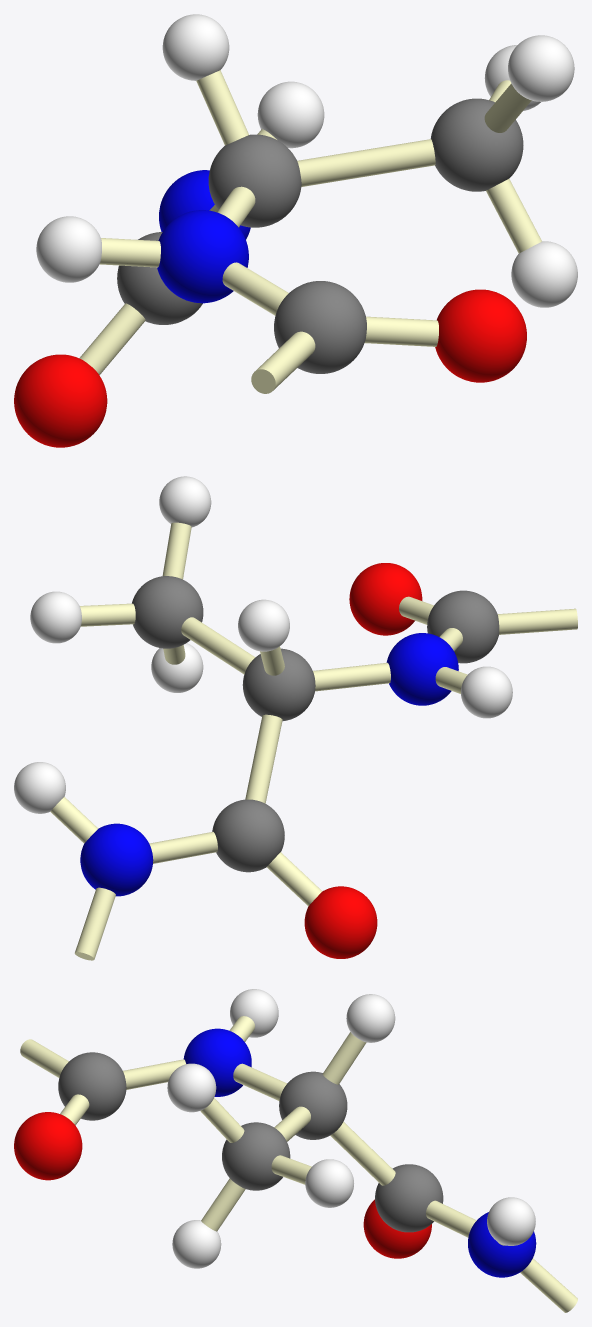
Rendered from conformation.gltf.
The picture shows the model from 3 angles, top to bottom: view 1: azimuth 30°, elevation 25°; view 2: azimuth 150°, elevation 25°; view 3: azimuth 270°, elevation 25°; orthographic projection. The views are drawn at different scales.
Parts seen in each view (by area): view 1: ?????????6, ?????????2, ?????????3, ?????????9, ?????????1, ?????????4, ?????????22, ?????????10, ?????????7, ?????????12, ?????????8, ?????????14 (+12 smaller); view 2: ?????????6, ?????????5, ?????????13, ?????????9, ?????????2, ?????????3, ?????????4, ?????????1, ?????????7, ?????????11, ?????????8, ?????????14 (+13 smaller); view 3: ?????????2, ?????????1, ?????????5, ?????????9, ?????????4, ?????????3, ?????????13, ?????????6, ?????????10, ?????????8, ?????????11, ?????????14 (+14 smaller).
Boxes of the visible parts, bbox=[...] form: ?????????6: bbox=[14, 354, 107, 447]; ?????????2: bbox=[435, 289, 526, 382]; ?????????3: bbox=[157, 210, 248, 303]; ?????????9: bbox=[430, 98, 523, 191]; ?????????1: bbox=[274, 281, 366, 373]; ?????????4: bbox=[208, 134, 301, 227]; ?????????22: bbox=[297, 139, 435, 186]; ?????????10: bbox=[508, 35, 574, 101]; ?????????7: bbox=[36, 216, 101, 282]; ?????????12: bbox=[511, 241, 577, 307]; ?????????8: bbox=[162, 14, 229, 80]; ?????????14: bbox=[257, 81, 324, 148]; ?????????6: bbox=[304, 886, 377, 958]; ?????????5: bbox=[212, 799, 284, 872]; ?????????13: bbox=[80, 823, 153, 896]; ?????????9: bbox=[132, 576, 203, 648]; ?????????2: bbox=[349, 563, 422, 635]; ?????????3: bbox=[386, 633, 458, 705]; ?????????4: bbox=[242, 648, 315, 721]; ?????????1: bbox=[427, 590, 499, 663]; ?????????7: bbox=[461, 666, 512, 718]; ?????????11: bbox=[30, 591, 81, 643]; ?????????8: bbox=[238, 599, 289, 651]; ?????????14: bbox=[14, 762, 65, 813]; ?????????2: bbox=[14, 1112, 82, 1180]; ?????????1: bbox=[58, 1052, 126, 1120]; ?????????5: bbox=[375, 1164, 443, 1232]; ?????????9: bbox=[222, 1122, 290, 1190]; ?????????4: bbox=[279, 1071, 347, 1139]; ?????????3: bbox=[183, 1028, 251, 1096]; ?????????13: bbox=[468, 1212, 536, 1277]; ?????????6: bbox=[363, 1199, 431, 1258]; ?????????10: bbox=[167, 1063, 216, 1112]; ?????????8: bbox=[346, 994, 395, 1042]; ?????????11: bbox=[305, 1159, 353, 1207]; ?????????14: bbox=[487, 1197, 535, 1245].
Size of the model in its own units: 48.29 by 35.15 by 57.75.
